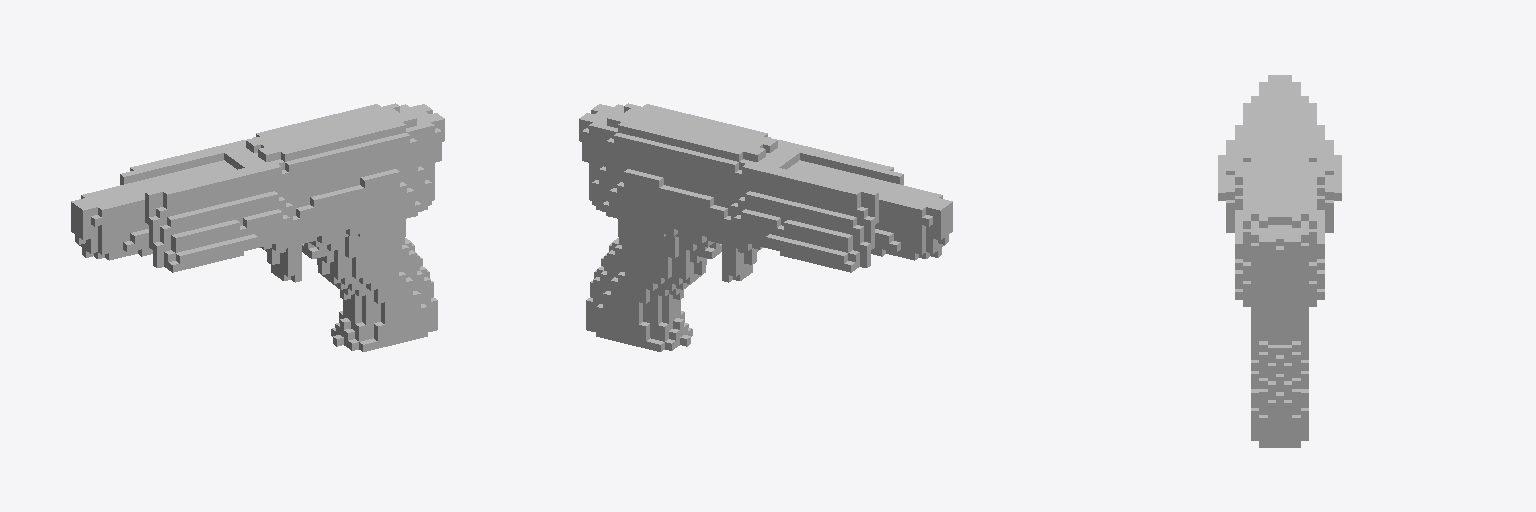
Rendered from voxel gun.obj.
The picture shows the model from 3 angles: view 1: azimuth 30°, elevation 25°; view 2: azimuth 150°, elevation 25°; view 3: azimuth 270°, elevation 25°; orthographic projection.
Visible parts, largest first — view 1: gun_50x29x15; view 2: gun_50x29x15; view 3: gun_50x29x15.
Part boxes in pixels (left/top/right/bottom): gun_50x29x15: left=71, top=103, right=444, bottom=351; gun_50x29x15: left=579, top=103, right=952, bottom=351; gun_50x29x15: left=1218, top=75, right=1341, bottom=447.
Bounding box in the file's own units: 10.2 × 5.92 × 3.06.